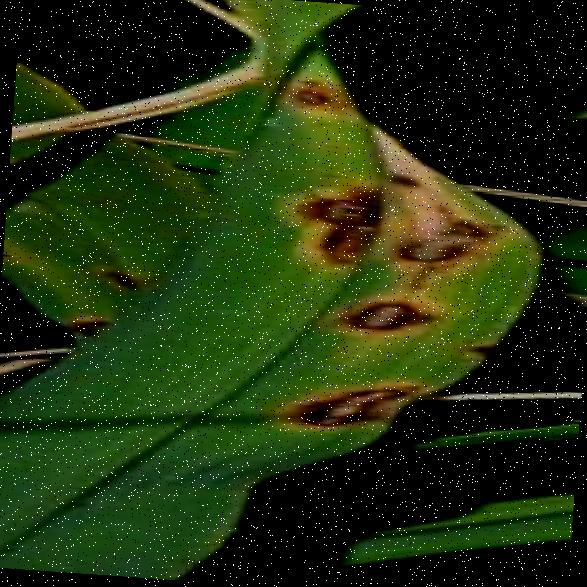Brown_Spot: (264, 351, 438, 448), (311, 264, 458, 362), (269, 166, 394, 238), (381, 216, 481, 286), (287, 211, 383, 280), (419, 193, 514, 252), (270, 77, 352, 123), (375, 155, 427, 196), (291, 64, 331, 86)
